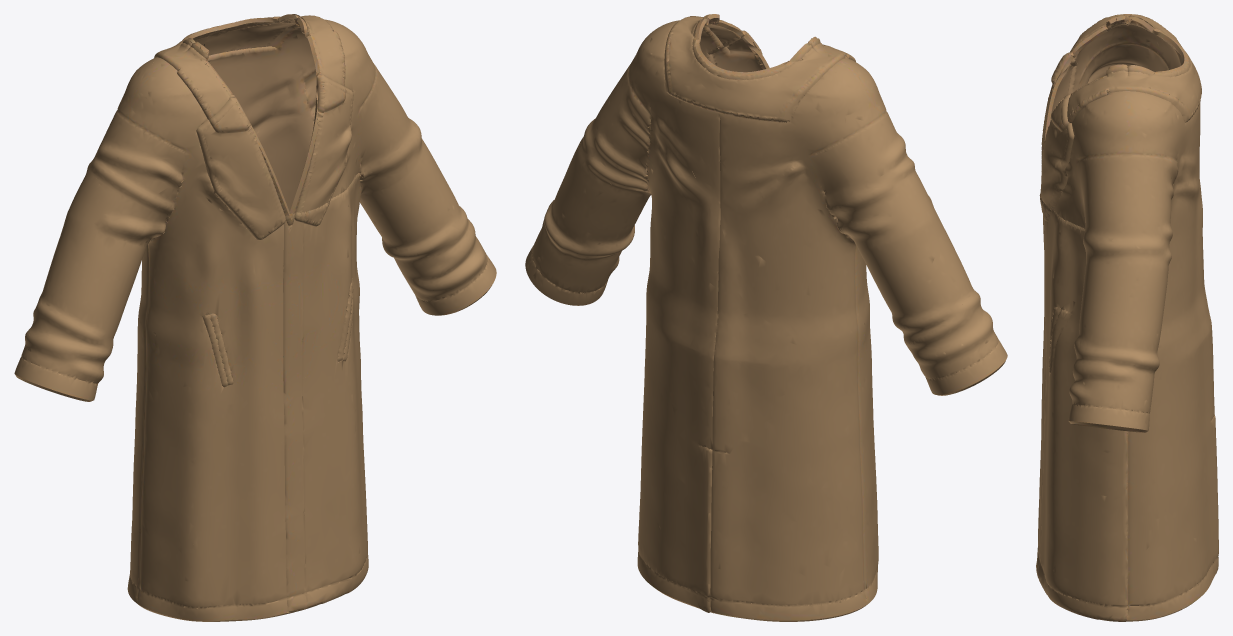
The model's file is 03_abrigo_largo_pbr.glb.
The picture shows the model from 3 angles, left to right: view 1: azimuth 30°, elevation 25°; view 2: azimuth 150°, elevation 25°; view 3: azimuth 270°, elevation 25°; orthographic projection. The views are drawn at different scales.
Parts seen in each view (by area): view 1: Camiseta PBR; view 2: Camiseta PBR; view 3: Camiseta PBR.
Boxes of the visible parts, x1,y1,x2,y2 form: Camiseta PBR: (14,14,496,621); Camiseta PBR: (525,14,1007,621); Camiseta PBR: (1036,14,1218,621).
Size of the model in its own units: 1.08 by 1.21 by 0.3763.
1 material, 1 textured.
